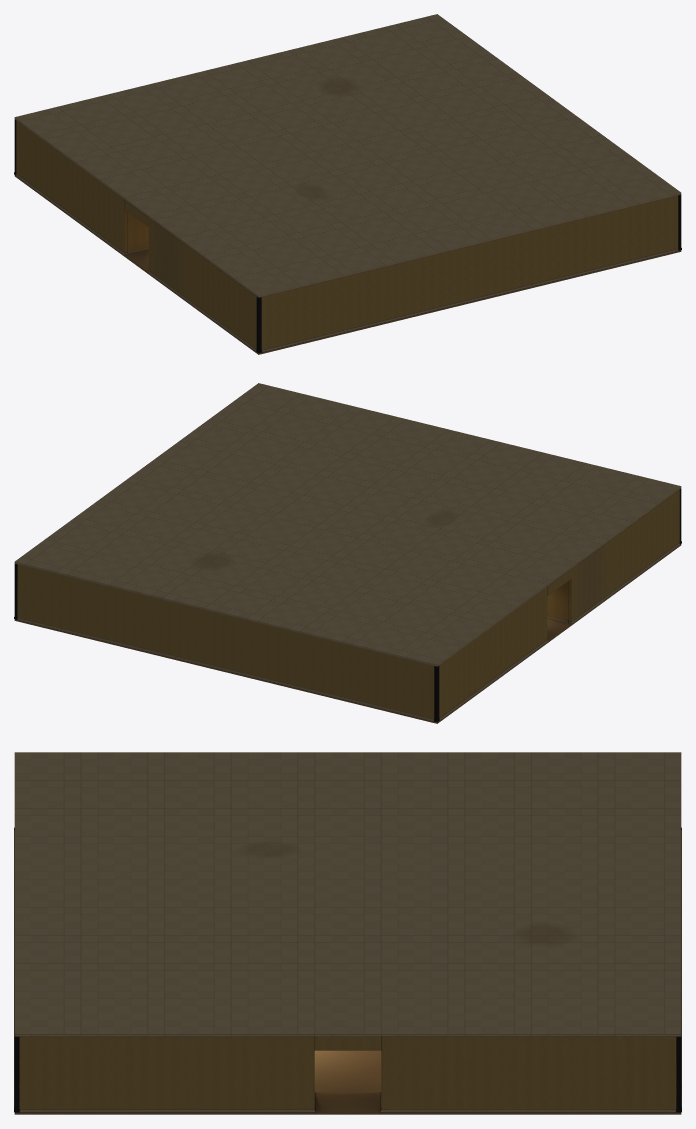
The picture shows the model from 3 angles, top to bottom: view 1: azimuth 30°, elevation 25°; view 2: azimuth 150°, elevation 25°; view 3: azimuth 270°, elevation 25°; orthographic projection. The views are drawn at different scales.
Visible parts, largest first — view 1: Ceiling, Walls, Pillars, Floor; view 2: Ceiling, Walls, Pillars, Floor; view 3: Ceiling, Walls, Floor, Pillars.
Boxes of the visible parts, x1=… form: Ceiling: x1=14, y1=14, x2=681, y2=297; Walls: x1=14, y1=119, x2=681, y2=350; Pillars: x1=14, y1=172, x2=681, y2=353; Floor: x1=14, y1=175, x2=681, y2=354; Ceiling: x1=14, y1=383, x2=681, y2=666; Walls: x1=14, y1=488, x2=681, y2=719; Pillars: x1=14, y1=541, x2=681, y2=722; Floor: x1=14, y1=544, x2=681, y2=723; Ceiling: x1=14, y1=752, x2=681, y2=1036; Walls: x1=14, y1=1036, x2=681, y2=1109; Floor: x1=14, y1=1050, x2=681, y2=1114; Pillars: x1=14, y1=827, x2=681, y2=1112.
Size of what is drawn, in the model's own units: 24.04 by 3.2 by 24.04.
6 materials, 5 textured.
